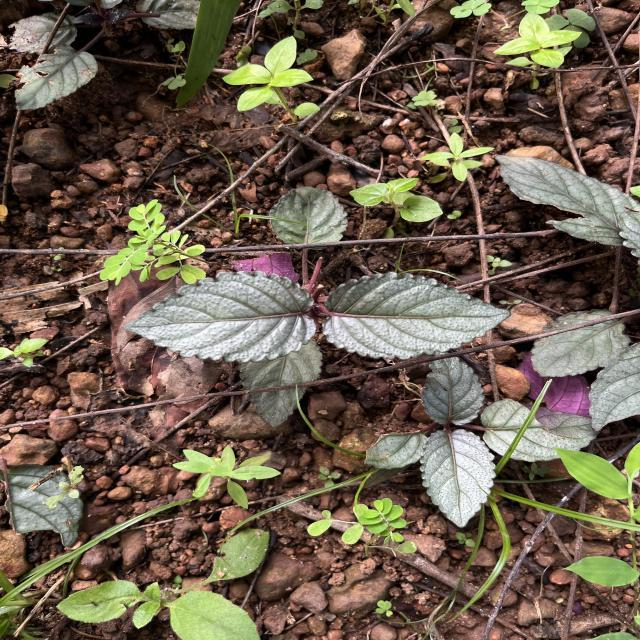Hemigraphis colorata: (119, 268, 318, 366), (320, 270, 512, 362), (494, 153, 640, 249), (479, 396, 599, 464), (418, 427, 498, 529), (528, 307, 634, 379), (586, 338, 640, 433), (418, 354, 486, 427)
